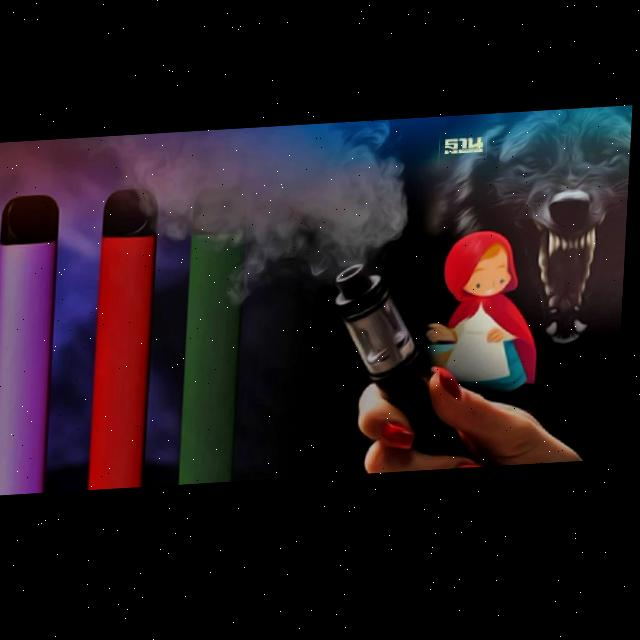vape: (331, 263, 487, 481), (93, 189, 162, 492), (183, 189, 252, 488), (0, 194, 63, 496)
